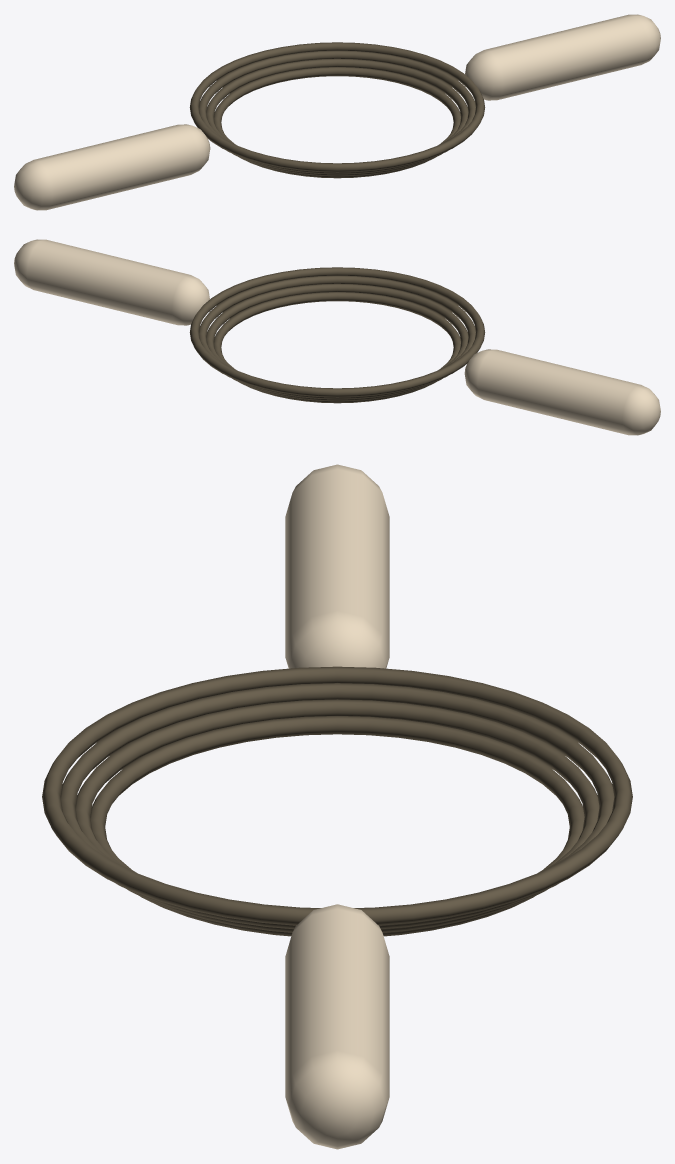
File: wire-cutter-v2.glb
3 renders of one model, top to bottom at view 1: azimuth 30°, elevation 25°; view 2: azimuth 150°, elevation 25°; view 3: azimuth 270°, elevation 25°, orthographic. The views are drawn at different scales.
Parts seen in each view (by area): view 1: Wooden wire grip (×2), Wire coil (×4); view 2: Wooden wire grip (×2), Wire coil (×4); view 3: Wire coil (×4), Wooden wire grip (×2).
Boxes of the visible parts, box(x1,y1,x2,y2) form: Wooden wire grip (×2): box(14, 14, 660, 210); Wire coil (×4): box(189, 42, 485, 178); Wooden wire grip (×2): box(14, 239, 660, 435); Wire coil (×4): box(189, 267, 485, 403); Wire coil (×4): box(42, 666, 632, 936); Wooden wire grip (×2): box(285, 464, 389, 1149).
Size of the model in its own units: 0.398 by 0.028 by 0.159.
